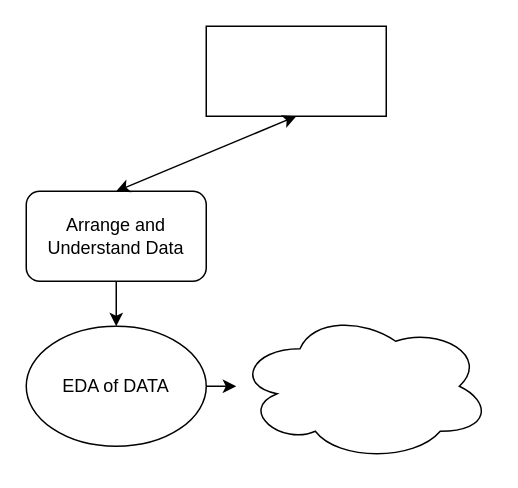
The diagram is 518 pixels wide and 488 high, and some of its shapes have lost their labels. Here are the shapes that lost their labels. From the top down, the centre of each, then its label:
pixel 295 70: Decide Goal
pixel 363 385: Understand PANDAS
